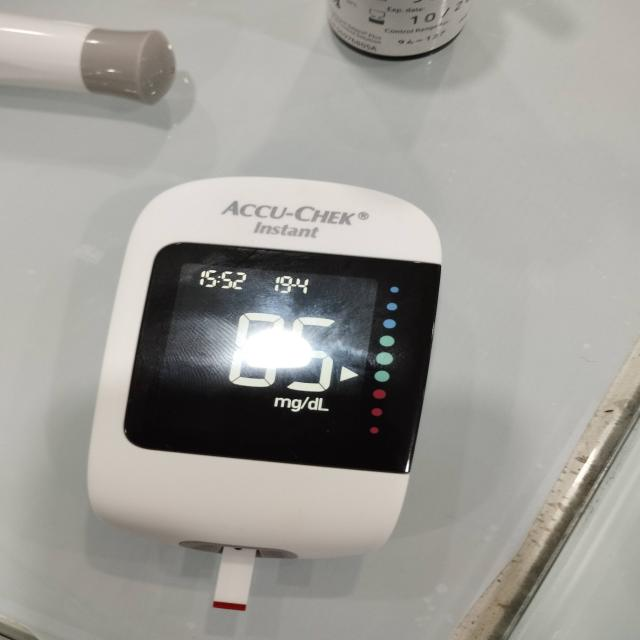gluco: (84, 177, 442, 562)
